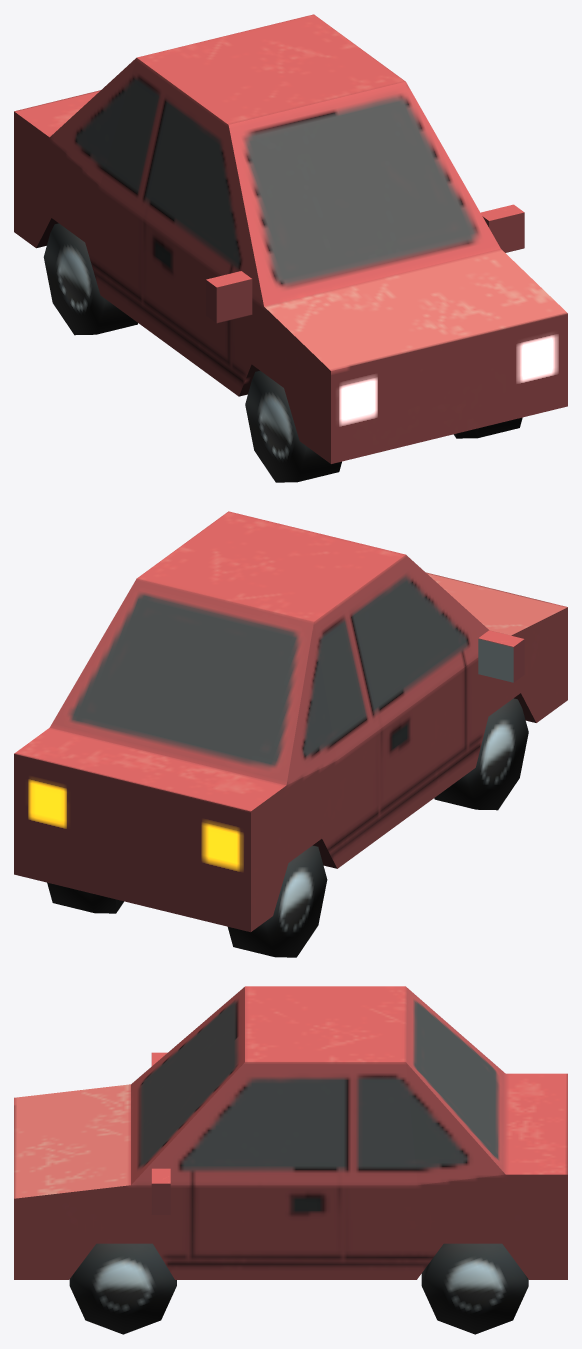
File: Car.fbx
The picture shows the model from 3 angles, top to bottom: view 1: azimuth 30°, elevation 25°; view 2: azimuth 150°, elevation 25°; view 3: azimuth 270°, elevation 25°; orthographic projection. The views are drawn at different scales.
Visible parts, largest first — view 1: Car_Body, Car:BackRightWheel, Car:FrontRightWheel, Car:FrontLeftWheel; view 2: Car_Body, Car:BackRightWheel, Car:FrontRightWheel, FrontLeftWheel; view 3: Car_Body, FrontLeftWheel, Car:FrontLeftWheel.
Boxes of the visible parts, x1,y1,x2,y2 form: Car_Body: (14,14,567,463); Car:BackRightWheel: (43,223,137,335); Car:FrontRightWheel: (245,370,341,482); Car:FrontLeftWheel: (453,417,522,438); Car_Body: (14,511,567,932); Car:BackRightWheel: (228,845,327,957); Car:FrontRightWheel: (434,698,528,810); FrontLeftWheel: (47,882,123,913); Car_Body: (14,986,567,1279); FrontLeftWheel: (421,1243,528,1334); Car:FrontLeftWheel: (69,1243,176,1334).
Size of the model in its own units: 130 by 122 by 232.
